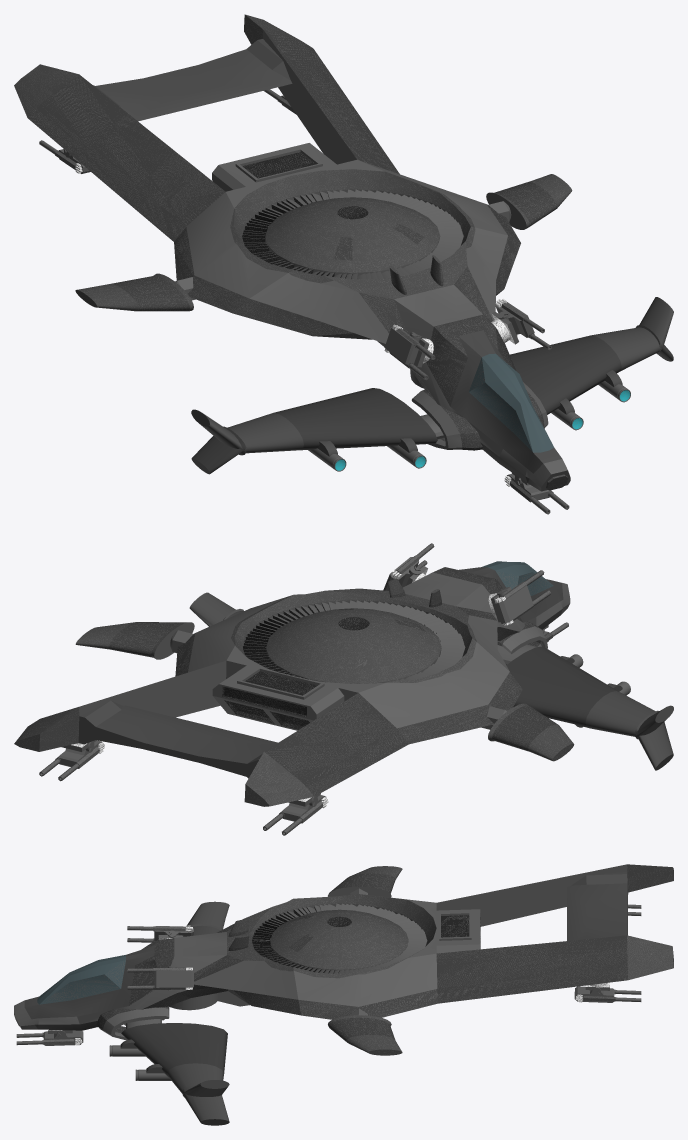
The model's file is ship.dae.
3 views of the same model, one above another, from view 1: azimuth 30°, elevation 25°; view 2: azimuth 150°, elevation 25°; view 3: azimuth 270°, elevation 25° (orthographic). The views are drawn at different scales.
Parts seen in each view (by area): view 1: __AV78-AERODYNE_ (×13), Component_2 (×7), Component_5, Component_4 (×3), Component_6; view 2: __AV78-AERODYNE_ (×15), Component_5, Component_2 (×5), Component_4 (×5), Component_6 (×3); view 3: __AV78-AERODYNE_ (×15), Component_2 (×5), Component_5, Component_4 (×4), Component_6 (×3).
Part boxes in pixels (x1,y1,x2,y2): __AV78-AERODYNE_ (×13): (14, 29, 570, 491); Component_2 (×7): (191, 297, 673, 474); Component_5: (265, 197, 440, 272); Component_4 (×3): (75, 182, 557, 311); Component_6: (384, 327, 421, 364); __AV78-AERODYNE_ (×15): (14, 561, 570, 806); Component_5: (266, 608, 441, 683); Component_2 (×5): (189, 592, 673, 770); Component_4 (×5): (75, 622, 574, 761); Component_6 (×3): (58, 585, 533, 823); __AV78-AERODYNE_ (×15): (14, 864, 673, 1040); Component_2 (×5): (121, 901, 229, 1125); Component_5: (270, 909, 408, 969); Component_4 (×4): (328, 873, 402, 1055); Component_6 (×3): (43, 966, 614, 1045).
Size of the model in its own units: 1743 by 2650 by 630.
